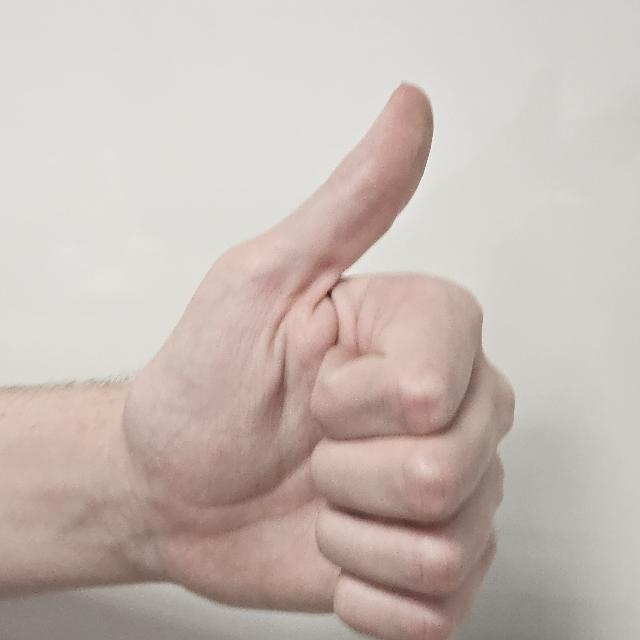Start: (131, 82, 513, 640)
